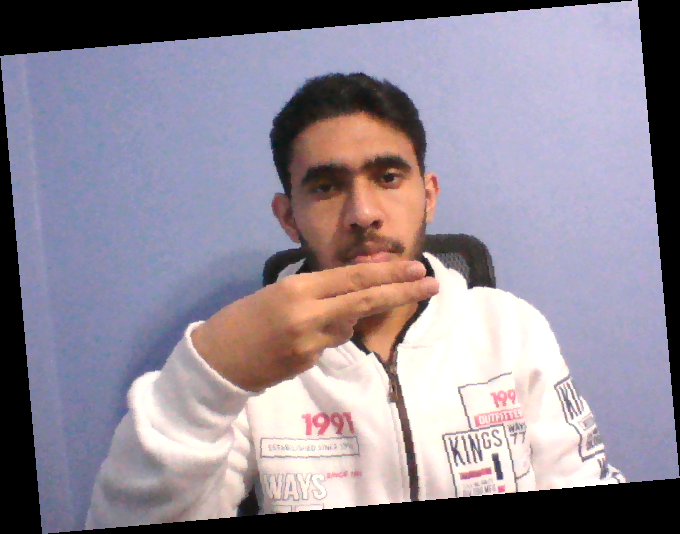H: (167, 258, 443, 400)
